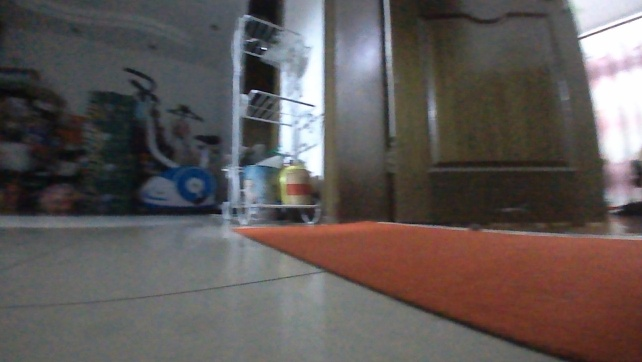blanket: (228, 218, 641, 361)
door_anno: (321, 0, 609, 234)
